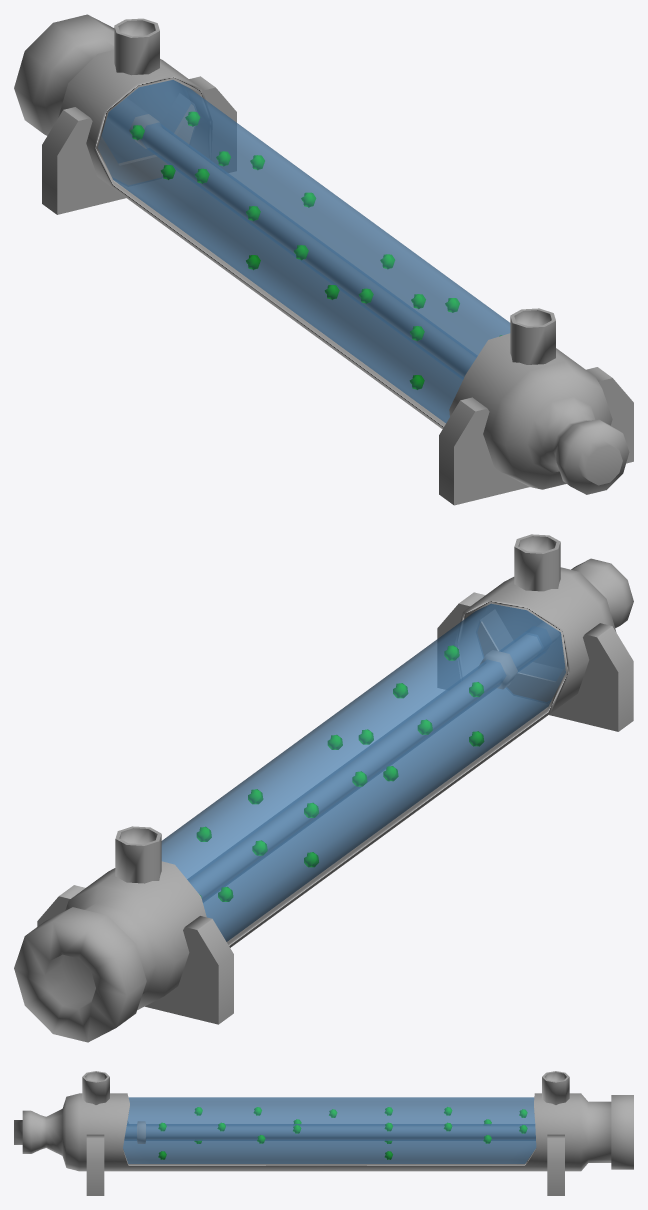
File: uv trit.fbx
3 renders of one model, top to bottom at view 1: azimuth 30°, elevation 25°; view 2: azimuth 150°, elevation 25°; view 3: azimuth 270°, elevation 25°, orthographic. The views are drawn at different scales.
Visible parts, largest first — view 1: pCylinder1, pCylinder2, polySurface2, pCube2, polySurface1, pCube1, pCylinder5, pCylinder4; view 2: pCylinder1, pCylinder2, polySurface2, pCube1, polySurface1, pCube2, pCylinder5, pCylinder4; view 3: pCylinder1, pCylinder2, polySurface2, polySurface1, pCube1, pCube2, pCylinder5, pCylinder4.
Boxes of the visible parts, x1,y1,x2,y2 form: pCylinder1: [98, 80, 510, 423]; pCylinder2: [14, 14, 629, 494]; polySurface2: [141, 123, 477, 379]; pCube2: [42, 76, 236, 214]; polySurface1: [108, 98, 475, 376]; pCube1: [439, 367, 633, 505]; pCylinder5: [510, 308, 555, 364]; pCylinder4: [114, 18, 159, 75]; pCylinder1: [161, 603, 565, 941]; pCylinder2: [14, 558, 633, 1042]; polySurface2: [187, 628, 544, 902]; pCube1: [437, 592, 633, 731]; polySurface1: [189, 622, 559, 899]; pCube2: [37, 885, 233, 1024]; pCylinder5: [514, 534, 560, 591]; pCylinder4: [115, 826, 161, 883]; pCylinder1: [123, 1097, 536, 1163]; pCylinder2: [14, 1093, 633, 1171]; polySurface2: [124, 1124, 535, 1140]; polySurface1: [125, 1121, 535, 1143]; pCube1: [86, 1134, 104, 1195]; pCube2: [547, 1134, 564, 1195]; pCylinder5: [82, 1071, 109, 1104]; pCylinder4: [542, 1071, 569, 1104].
Size of the model in its own units: 0.7648 by 0.6505 by 3.93.
